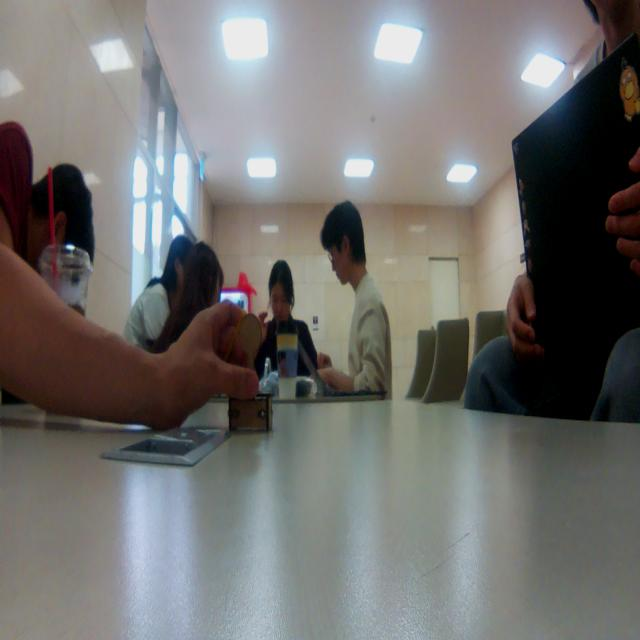target: (228, 312, 273, 433)
